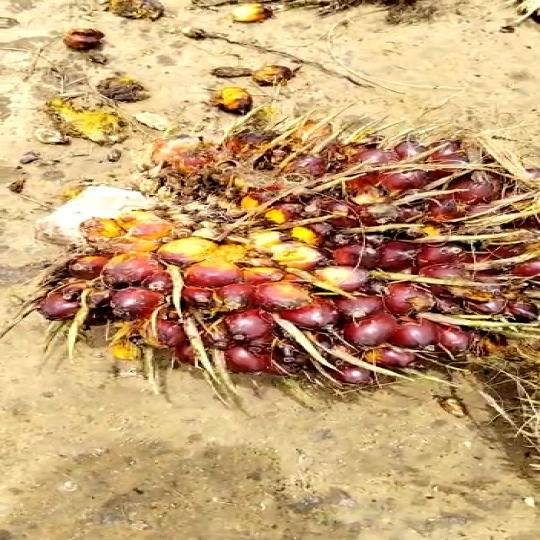masak: (31, 86, 540, 440)
